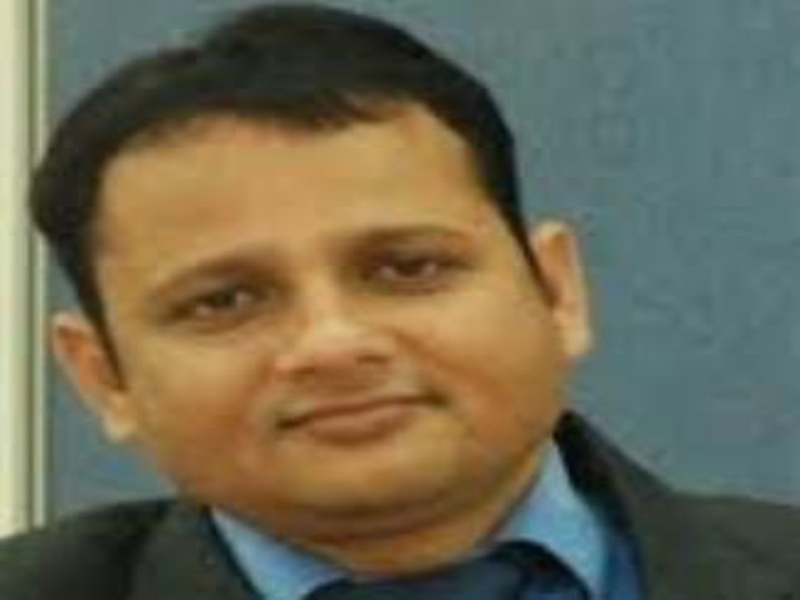TsisyArotava: (30, 27, 632, 547)
